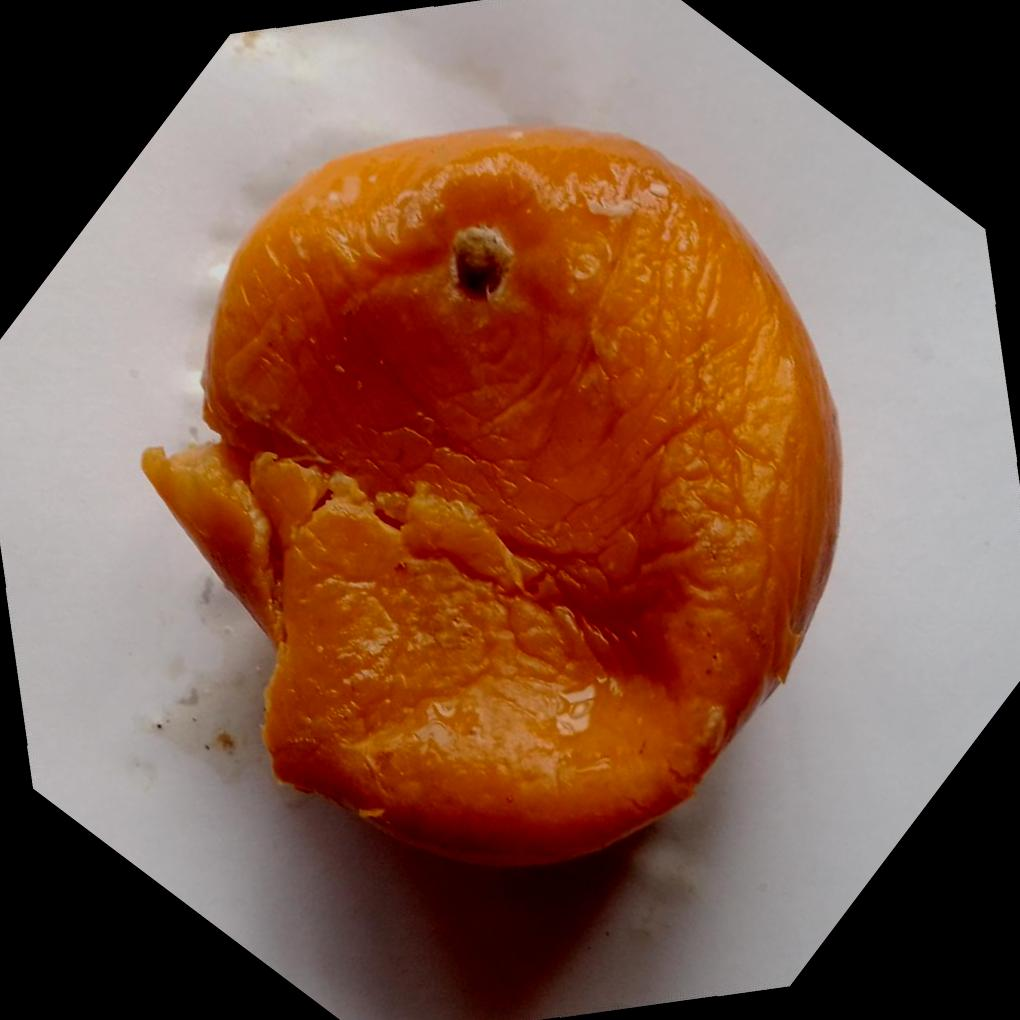FreshOrange: (137, 126, 841, 872)
